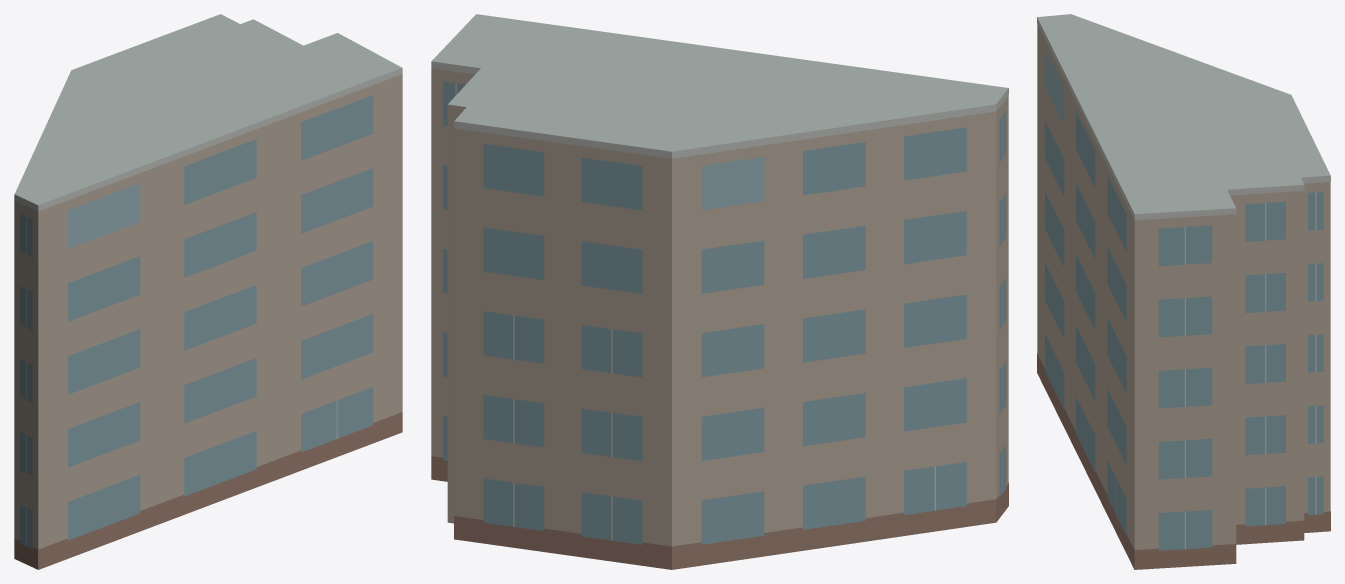
The model's file is survey-upis-32872977.glb.
3 renders of one model, left to right at view 1: azimuth 30°, elevation 25°; view 2: azimuth 150°, elevation 25°; view 3: azimuth 270°, elevation 25°, orthographic. The views are drawn at different scales.
Parts seen in each view (by area): view 1: survey-upis-32872977.tmp; view 2: survey-upis-32872977.tmp; view 3: survey-upis-32872977.tmp.
Part boxes in pixels (x1,y1,x2,y2): survey-upis-32872977.tmp: (14,14,402,569); survey-upis-32872977.tmp: (431,14,1008,569); survey-upis-32872977.tmp: (1037,14,1330,569).
Bounding box in the file's own units: 17.4 × 14.4 × 10.79.
